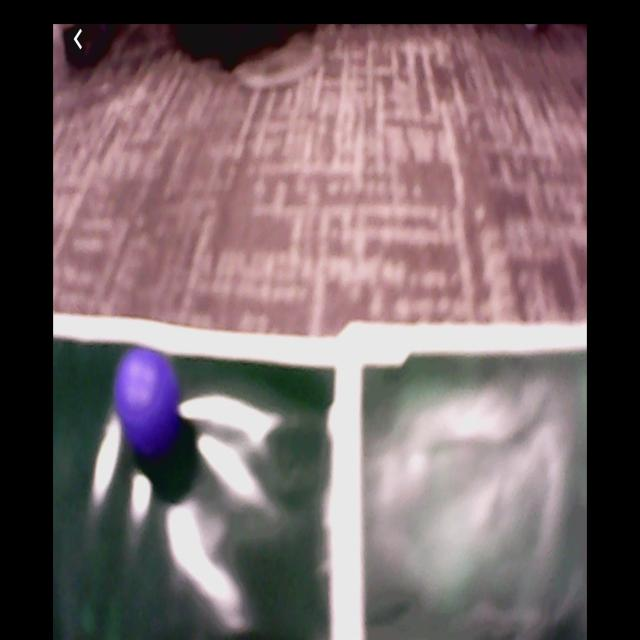ball: (112, 349, 177, 450)
